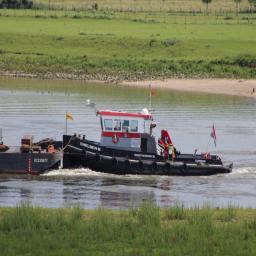tugboat: (63, 104, 237, 180)
